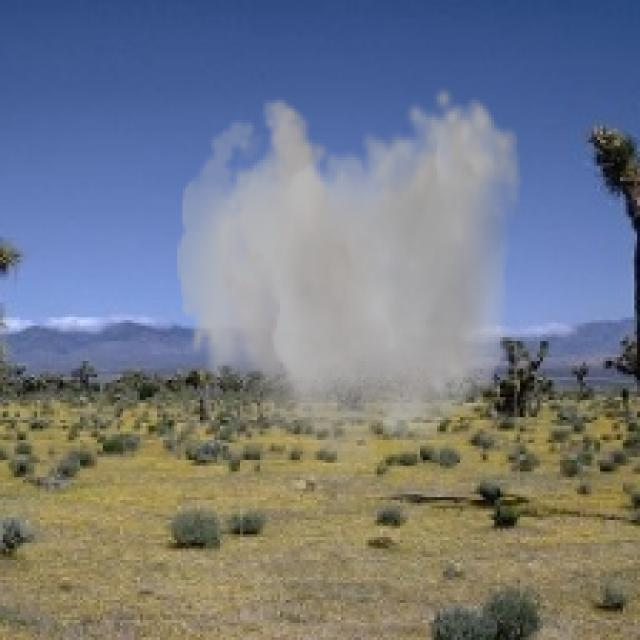smoke: (177, 86, 523, 500)
